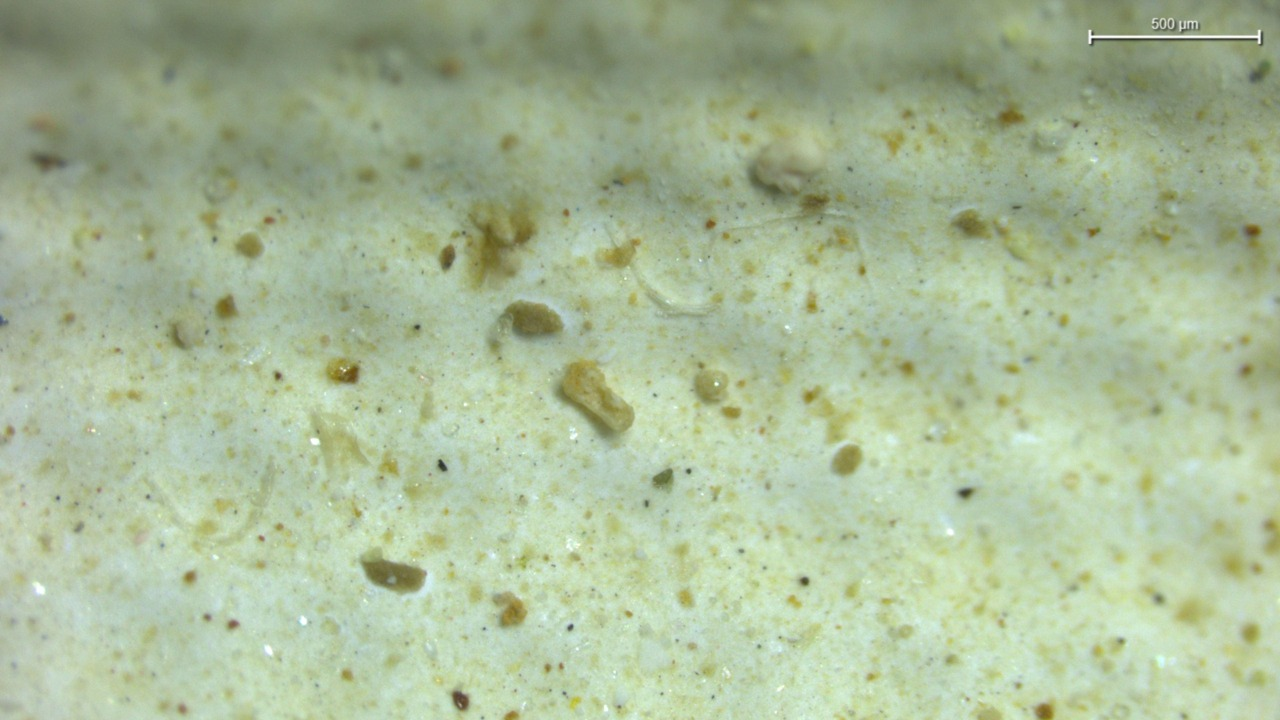microplastic_fragment: (561, 360, 634, 432)
